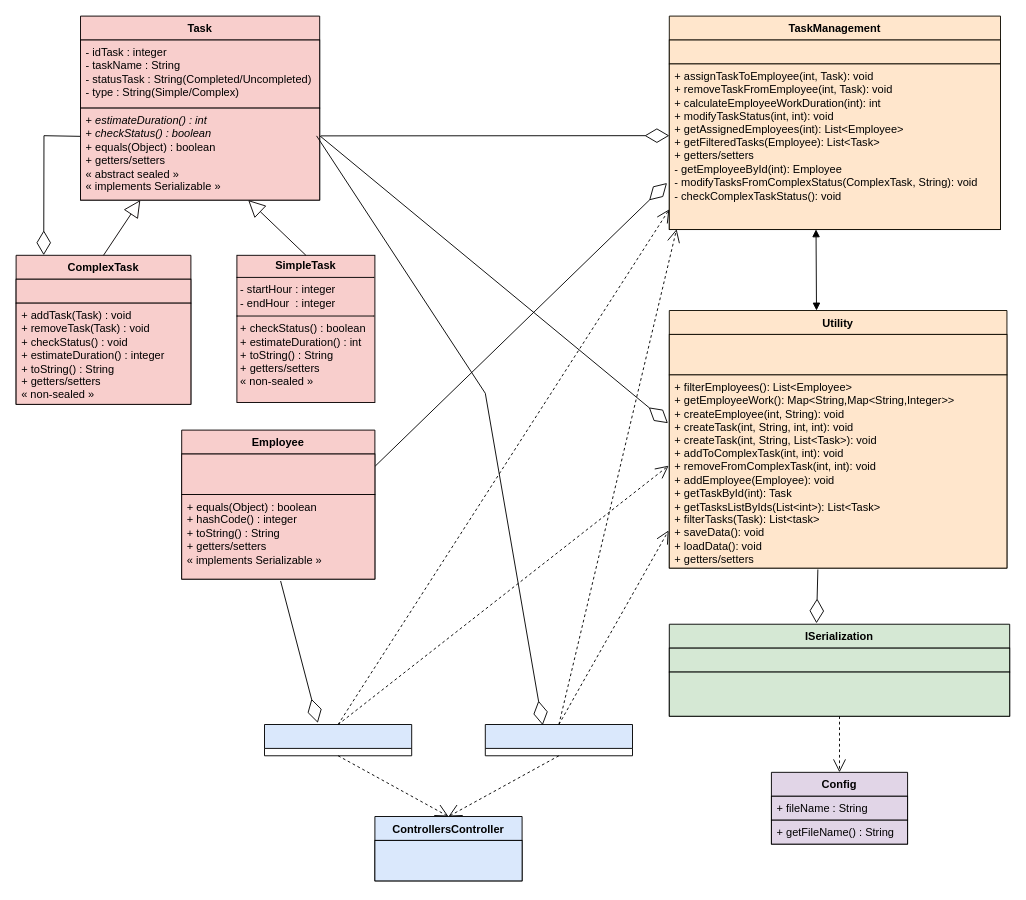
The diagram is 1026 pixels wide and 900 high, and some of its shapes have lost their labels. Here are the shapes that lost their labels. From the top down, the centre of each, then its label:
At (x=834, y=51): "- map: Map<Employee, List<Task>>".
At (x=103, y=290): "- tasks : List<Task>".
At (x=837, y=354): "- taskList: List<Task> - serialization: ISerialization".
At (x=278, y=473): "- idEmployee : integer - name : String".
At (x=839, y=659): "+ fileName: String".
At (x=839, y=693): "+ saveData(Map<Employee, List<Task>>, List<Task>): void + loadData(): Object[]".
At (x=338, y=740): "EmployeePagesControllers".
At (x=558, y=740): "TasksPagesControllers".
At (x=448, y=860): "+ onHomeBtnClick(): void + showMessage(): void".
